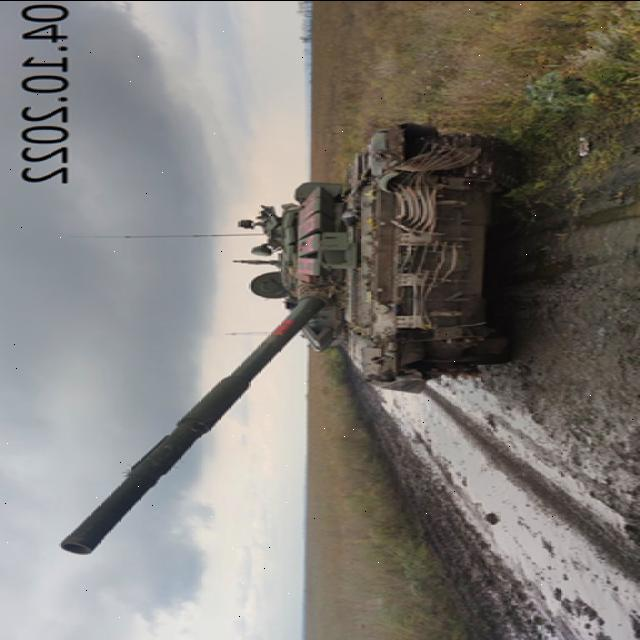TANK: (51, 115, 538, 556)
